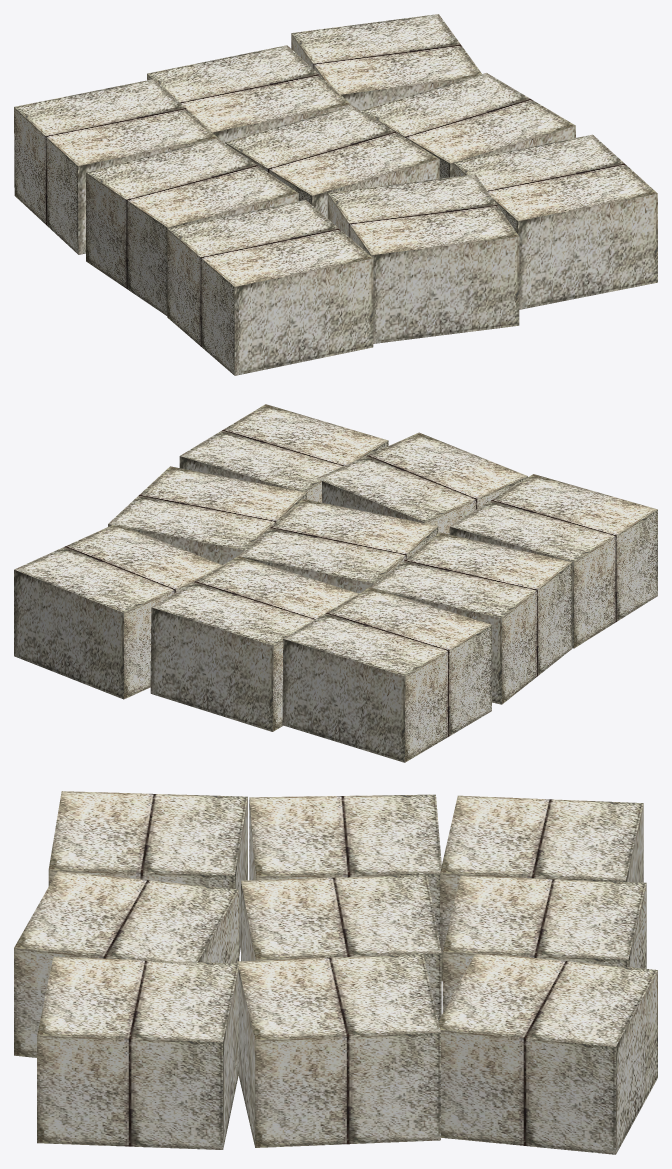
File: stone_layer_1.glb
The picture shows the model from 3 angles, top to bottom: view 1: azimuth 30°, elevation 25°; view 2: azimuth 150°, elevation 25°; view 3: azimuth 270°, elevation 25°; orthographic projection. The views are drawn at different scales.
Visible parts, largest first — view 1: stone_layer_1.001; view 2: stone_layer_1.001; view 3: stone_layer_1.001.
Part boxes in pixels (x1,y1,x2,y2): stone_layer_1.001: (14, 14, 657, 375); stone_layer_1.001: (14, 404, 657, 762); stone_layer_1.001: (14, 791, 657, 1154).
Size of the model in its own units: 190 by 37.88 by 202.
Materials: 1 (1 with a texture image).
